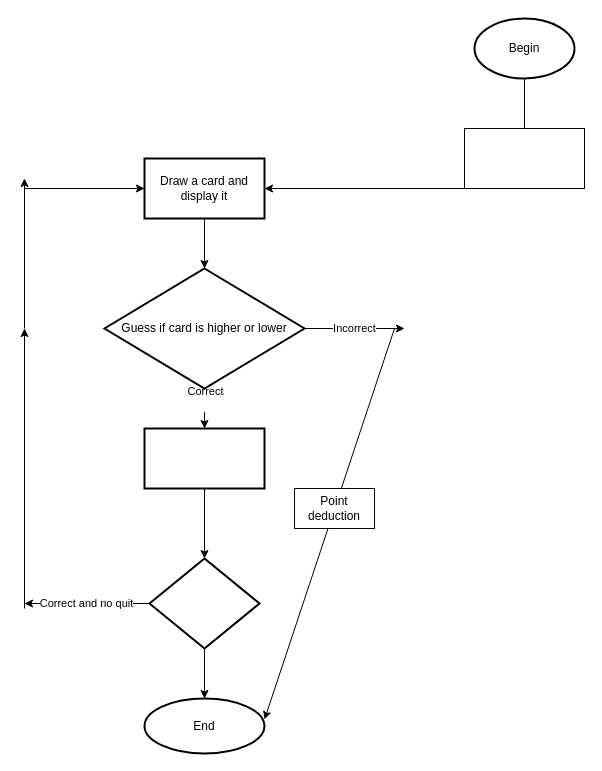
Some shapes in this 602 by 771 pixel diagram are drawn without their labels. Here are the shapes that lost their labels. From the top down, the centre of each, then its label:
At (x=524, y=158): "Initialize deck, lay them out on the table. Cards num 1-13".
At (x=204, y=458): "Do you wanna quit?".
At (x=204, y=603): "If Yes end If No = Loops".
